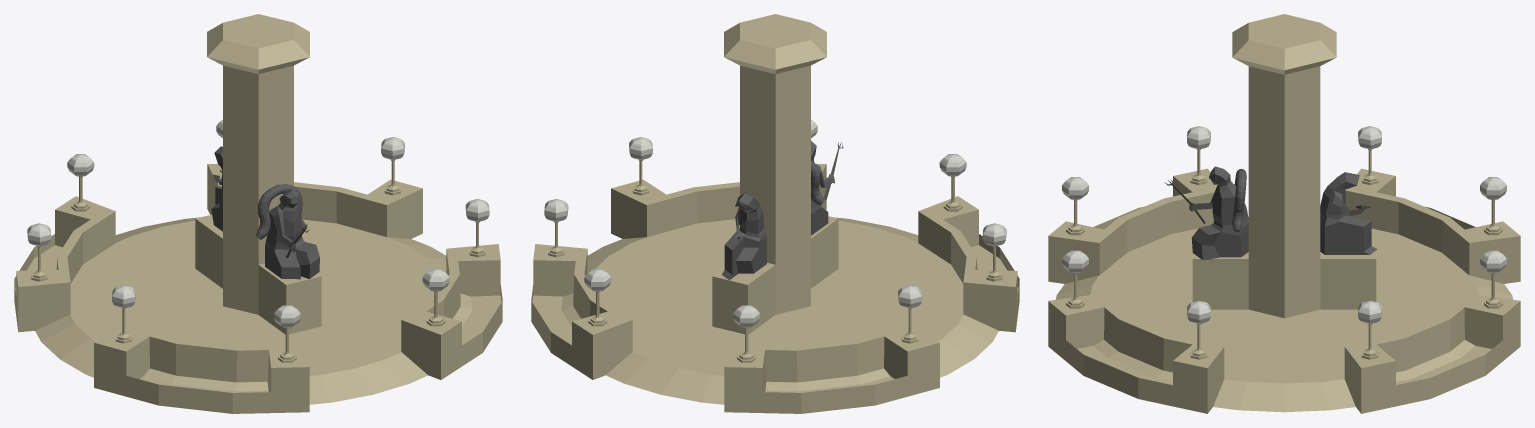
Rendered from Statue.fbx.
The picture shows the model from 3 angles, left to right: view 1: azimuth 30°, elevation 25°; view 2: azimuth 150°, elevation 25°; view 3: azimuth 270°, elevation 25°; orthographic projection.
Parts seen in each view (by area): view 1: Circle, Colum, Stature 2, Statue; view 2: Circle, Colum, Statue, Stature 2; view 3: Circle, Colum, Stature 2, Statue.
Boxes of the visible parts, <box> form: Circle: <box>14,119,502,413</box>; Colum: <box>195,14,321,334</box>; Stature 2: <box>256,184,319,279</box>; Statue: <box>211,146,222,231</box>; Circle: <box>531,119,1019,413</box>; Colum: <box>712,14,838,334</box>; Statue: <box>722,193,766,280</box>; Stature 2: <box>811,141,843,235</box>; Circle: <box>1048,126,1520,413</box>; Colum: <box>1192,14,1376,318</box>; Stature 2: <box>1164,166,1248,260</box>; Statue: <box>1320,172,1377,254</box>.
Bounding box in the file's own units: 1326 × 875 × 1326.
